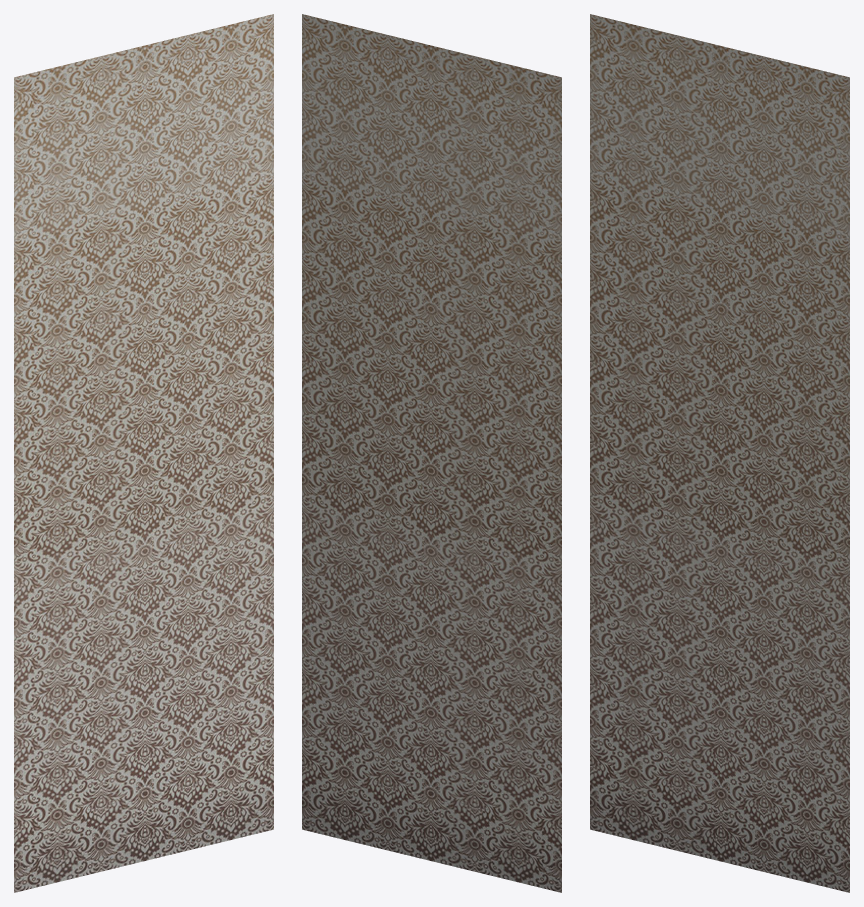
The model's file is 13m_wall_upper_deco.fbx.
The picture shows the model from 3 angles, left to right: view 1: azimuth 30°, elevation 25°; view 2: azimuth 150°, elevation 25°; view 3: azimuth 330°, elevation 25°; orthographic projection.
Visible parts, largest first — view 1: wall_13m; view 2: wall_13m; view 3: wall_13m.
Part boxes in pixels (bbox=[...]): wall_13m: bbox=[14, 14, 273, 892]; wall_13m: bbox=[302, 14, 561, 892]; wall_13m: bbox=[590, 14, 849, 892].
Size of the model in its own units: 100 by 300 by 0.00677.
1 material, 1 textured.
